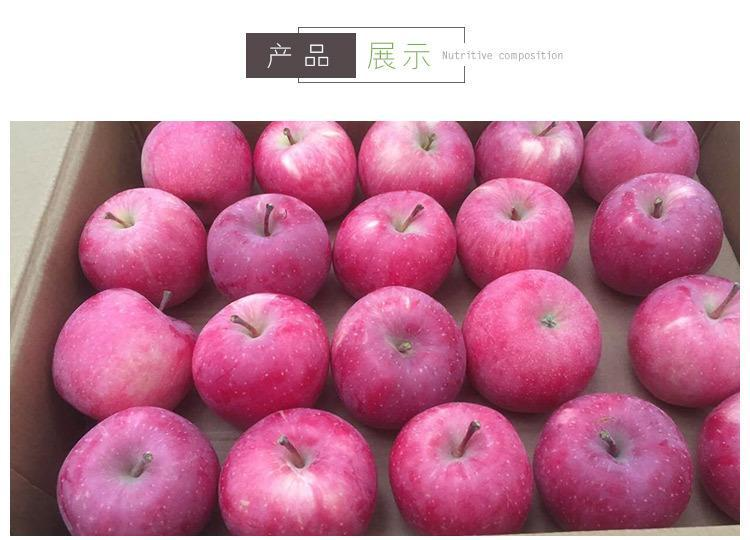apple: (533, 392, 694, 531), (56, 406, 220, 535), (216, 408, 376, 536), (327, 285, 465, 430), (463, 270, 600, 415), (189, 292, 329, 430), (388, 403, 533, 533), (590, 172, 723, 298), (76, 187, 209, 309), (626, 272, 739, 411), (334, 191, 457, 301), (455, 177, 578, 287), (209, 194, 332, 304), (135, 120, 254, 206), (248, 123, 356, 212), (361, 123, 469, 212), (583, 122, 704, 201), (473, 123, 583, 203), (695, 395, 739, 519)
